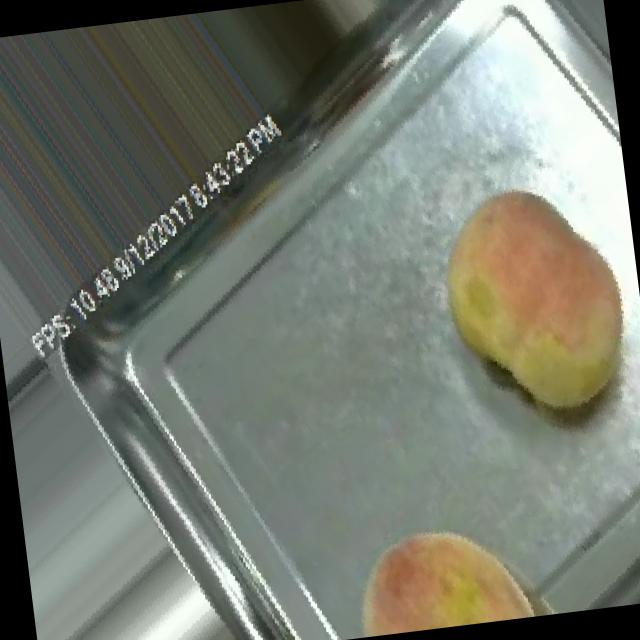Fruit: (399, 150, 640, 453), (311, 483, 569, 640)
